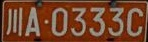A: (25, 7, 40, 36)
